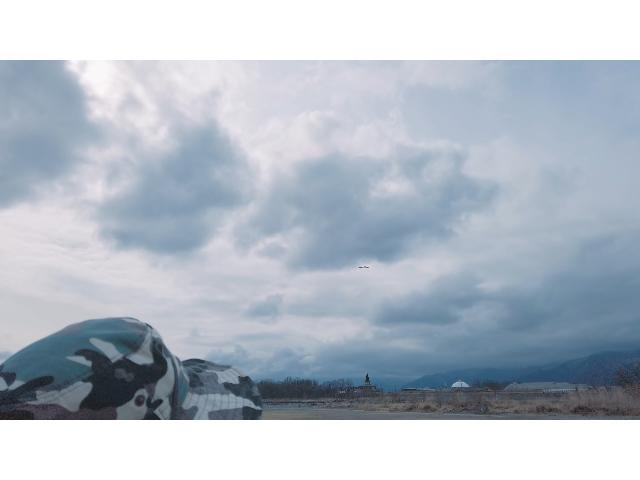Anti-Drone: (342, 256, 378, 280), (354, 256, 370, 272), (356, 262, 368, 272)
